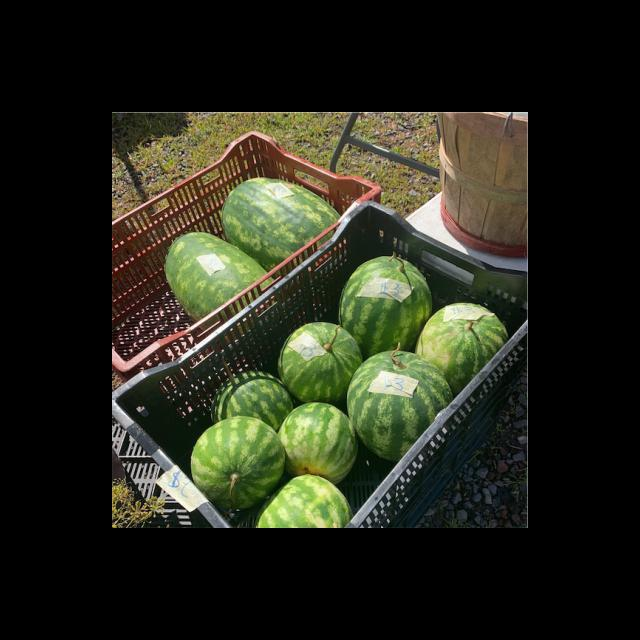watermelon: (164, 232, 276, 346), (222, 177, 342, 280), (346, 349, 454, 462), (339, 255, 432, 364), (190, 416, 286, 514), (414, 302, 508, 400), (277, 321, 364, 404), (276, 402, 358, 486), (210, 370, 294, 434), (255, 474, 354, 527)
